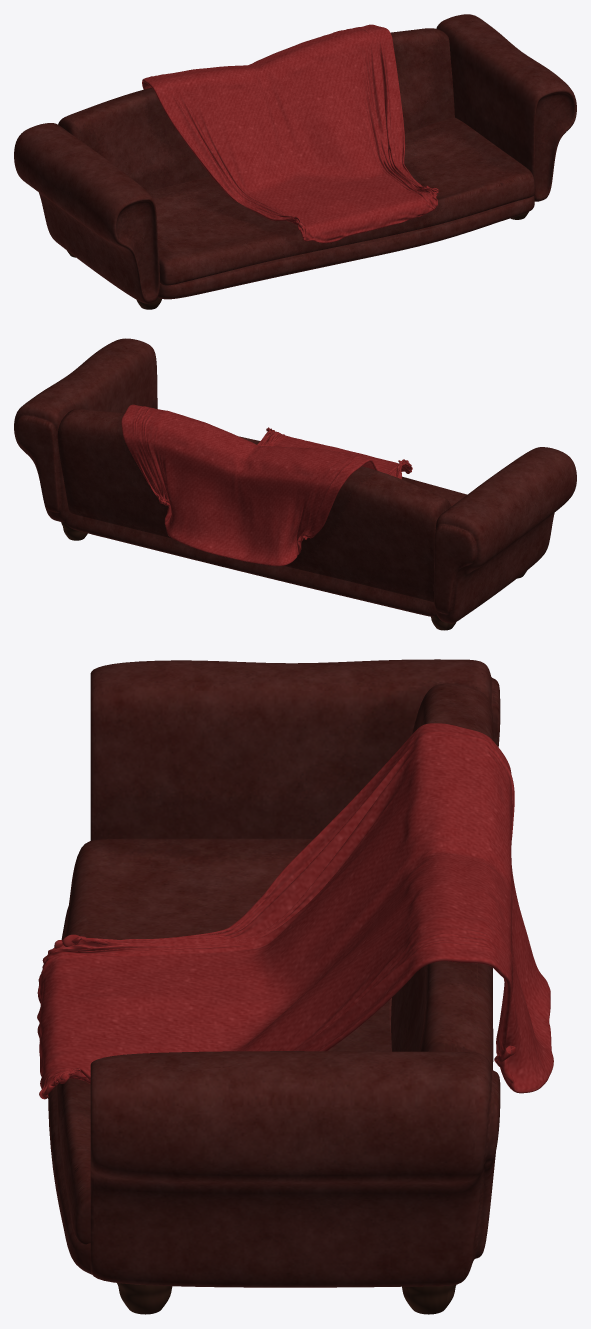
The picture shows the model from 3 angles, top to bottom: view 1: azimuth 30°, elevation 25°; view 2: azimuth 150°, elevation 25°; view 3: azimuth 270°, elevation 25°; orthographic projection. The views are drawn at different scales.
Visible parts, largest first — view 1: Cylinder; view 2: Cylinder; view 3: Cylinder.
Part boxes in pixels (box(x1,y1,x2,y2)): Cylinder: box(14, 14, 576, 309); Cylinder: box(14, 338, 576, 630); Cylinder: box(37, 659, 553, 1314).
Size of the model in its own units: 221 by 67.41 by 105.
1 material, 1 textured.
